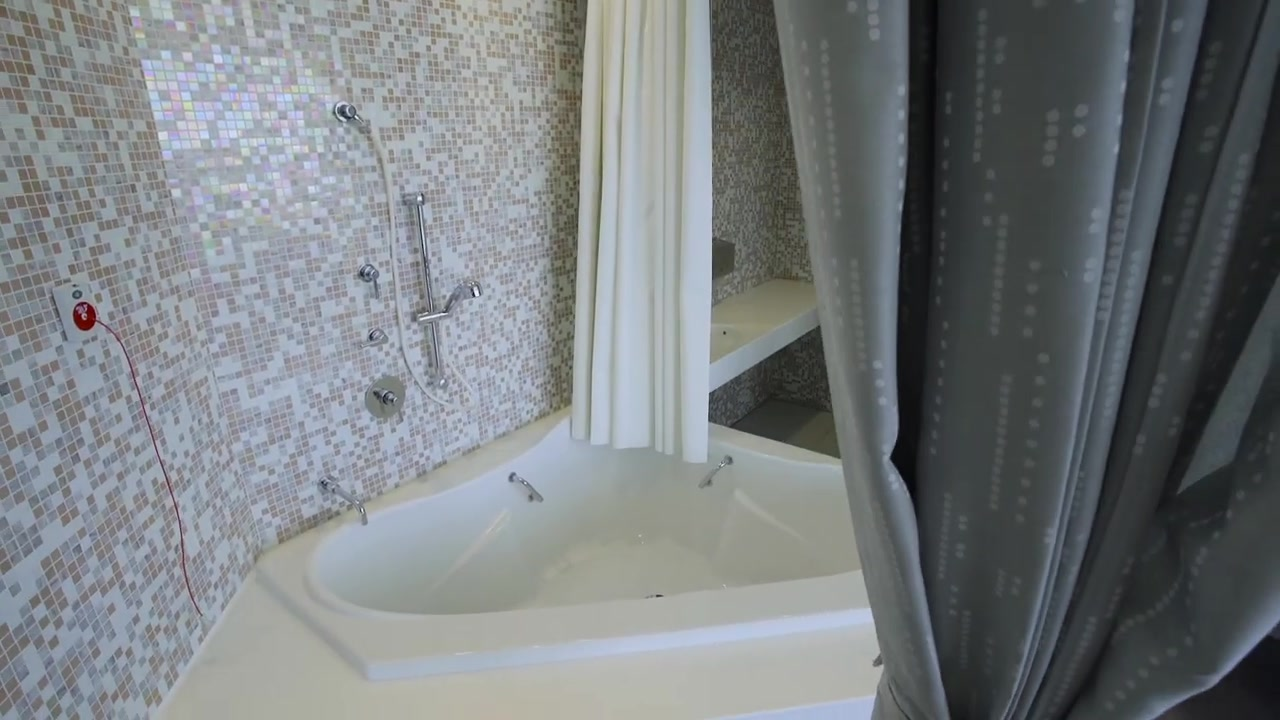counter: (721, 274, 822, 391)
countertop: (672, 265, 819, 363)
curtain: (770, 1, 1280, 720), (568, 1, 717, 468)
faucet: (362, 376, 411, 423), (356, 266, 382, 302), (356, 327, 390, 354)
restroom_assist_bar: (402, 189, 447, 393), (319, 476, 369, 528), (695, 454, 734, 495), (505, 470, 544, 505)
sink: (700, 308, 743, 394)
